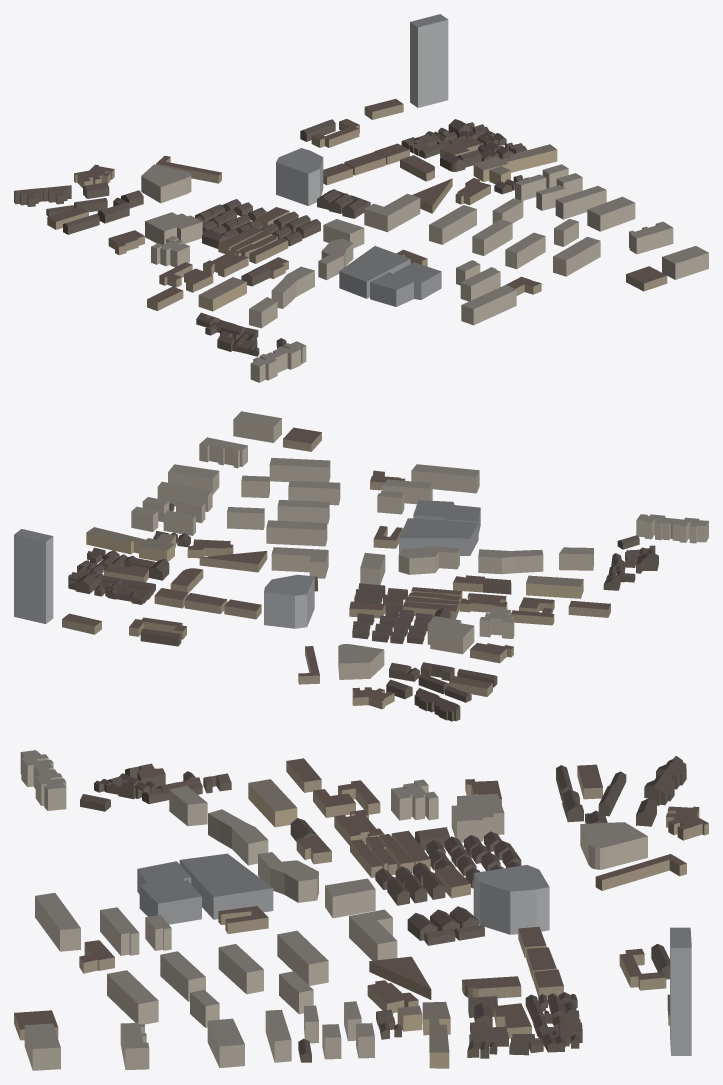
Rendered from tile_6_4.glb.
3 views of the same model, one above another, from view 1: azimuth 30°, elevation 25°; view 2: azimuth 150°, elevation 25°; view 3: azimuth 270°, elevation 25° (orthographic). The views are drawn at different scales.
Parts seen in each view (by area): view 1: HP-w859488908, HP-w999493006, HP-w1512497736, HP-w1512497738, HP-w859488875, HP-w731233908, HP-w1512965845, HP-w300652148, HP-w987283671, HP-w1070642364, HP-w1286955166, HP-w1286955169 (+25 smaller); view 2: HP-w859488908, HP-w999493006, HP-w1512497738, HP-w1512965845, HP-w300652148, HP-w731233906, HP-w731233907, HP-w1070642364, HP-w1286955166, HP-w859488875, HP-w731233908, HP-w987283671 (+41 smaller); view 3: HP-w999493006, HP-w1512497738, HP-w1512497736, HP-w859488908, HP-w859488875, HP-w731233908, HP-w731233907, HP-w731233906, HP-w1512965845, HP-w987283671, HP-w1286955169, HP-w1286955166 (+52 smaller).
Boxes of the visible parts, x1=… form: HP-w859488908: x1=410, y1=14, x2=448, y2=107; HP-w999493006: x1=276, y1=148, x2=323, y2=205; HP-w1512497736: x1=370, y1=262, x2=441, y2=306; HP-w1512497738: x1=339, y1=246, x2=410, y2=298; HP-w859488875: x1=141, y1=164, x2=191, y2=203; HP-w731233908: x1=145, y1=212, x2=202, y2=244; HP-w1512965845: x1=250, y1=341, x2=306, y2=382; HP-w300652148: x1=473, y1=144, x2=557, y2=181; HP-w987283671: x1=364, y1=193, x2=420, y2=232; HP-w1070642364: x1=461, y1=285, x2=516, y2=325; HP-w1286955166: x1=429, y1=205, x2=476, y2=244; HP-w1286955169: x1=553, y1=236, x2=600, y2=276; HP-w859488908: x1=14, y1=529, x2=53, y2=623; HP-w999493006: x1=264, y1=574, x2=314, y2=628; HP-w1512497738: x1=399, y1=518, x2=478, y2=555; HP-w1512965845: x1=636, y1=514, x2=708, y2=543; HP-w300652148: x1=86, y1=527, x2=174, y2=561; HP-w731233906: x1=478, y1=549, x2=543, y2=574; HP-w731233907: x1=398, y1=546, x2=459, y2=574; HP-w1070642364: x1=411, y1=464, x2=479, y2=493; HP-w1286955166: x1=266, y1=520, x2=327, y2=546; HP-w859488875: x1=338, y1=644, x2=384, y2=679; HP-w731233908: x1=427, y1=616, x2=474, y2=654; HP-w987283671: x1=271, y1=547, x2=328, y2=578; HP-w999493006: x1=473, y1=865, x2=549, y2=934; HP-w1512497738: x1=179, y1=853, x2=273, y2=919; HP-w1512497736: x1=137, y1=861, x2=201, y2=924; HP-w859488908: x1=670, y1=927, x2=691, y2=1055; HP-w859488875: x1=580, y1=822, x2=647, y2=869; HP-w731233908: x1=451, y1=793, x2=504, y2=842; HP-w731233907: x1=258, y1=852, x2=318, y2=902; HP-w731233906: x1=208, y1=809, x2=268, y2=865; HP-w1512965845: x1=20, y1=750, x2=66, y2=810; HP-w987283671: x1=349, y1=909, x2=397, y2=960; HP-w1286955169: x1=107, y1=970, x2=158, y2=1024; HP-w1286955166: x1=277, y1=930, x2=328, y2=985.
Bounding box in the file's own units: 539 × 90 × 524.
